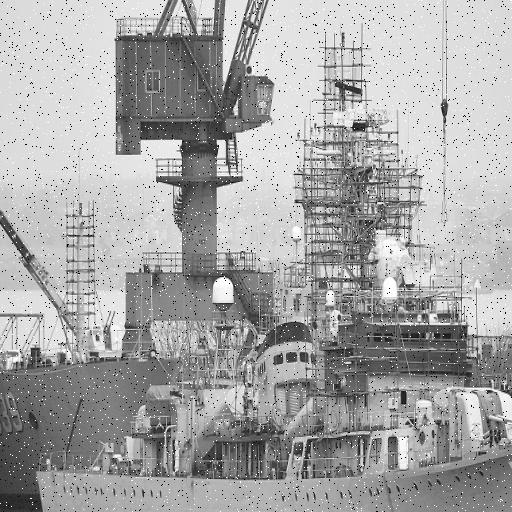Fragata: (33, 212, 512, 512)
